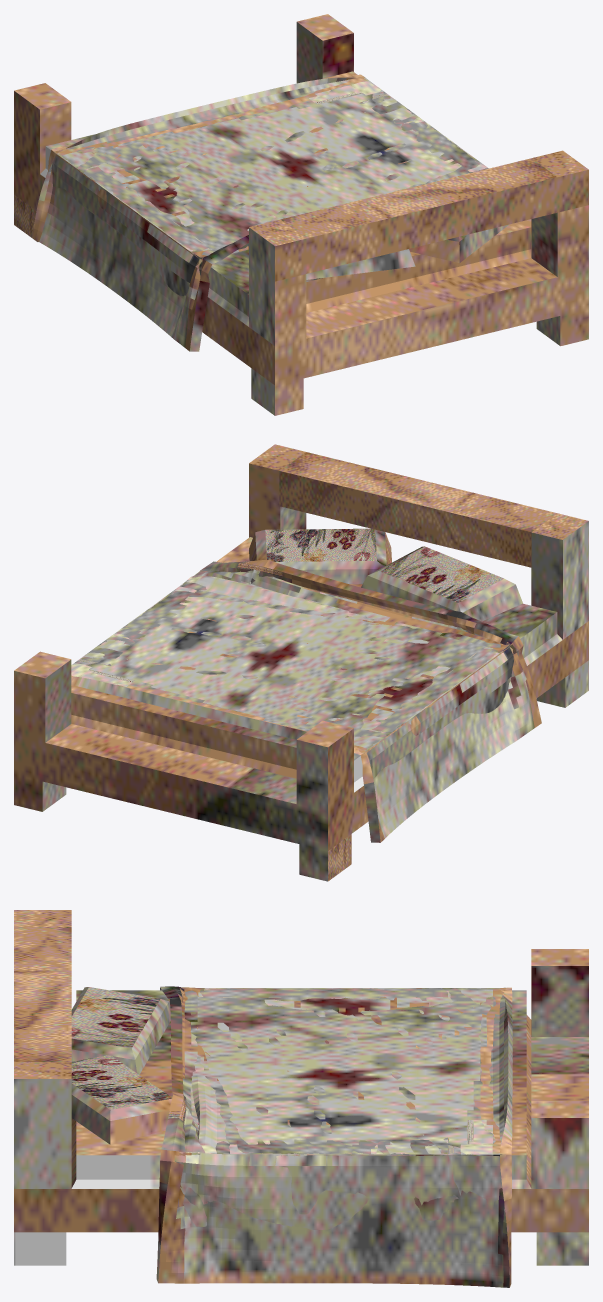
The model's file is thebedfbx.fbx.
3 views of the same model, one above another, from view 1: azimuth 30°, elevation 25°; view 2: azimuth 150°, elevation 25°; view 3: azimuth 270°, elevation 25° (orthographic). The views are drawn at different scales.
Visible parts, largest first — view 1: Cube.002; view 2: Cube.002; view 3: Cube.002.
Boxes of the visible parts, x1=… form: Cube.002: x1=14, y1=14, x2=588, y2=415; Cube.002: x1=14, y1=444, x2=588, y2=881; Cube.002: x1=14, y1=910, x2=588, y2=1287.
Bounding box in the file's own units: 770 × 388 × 998.
